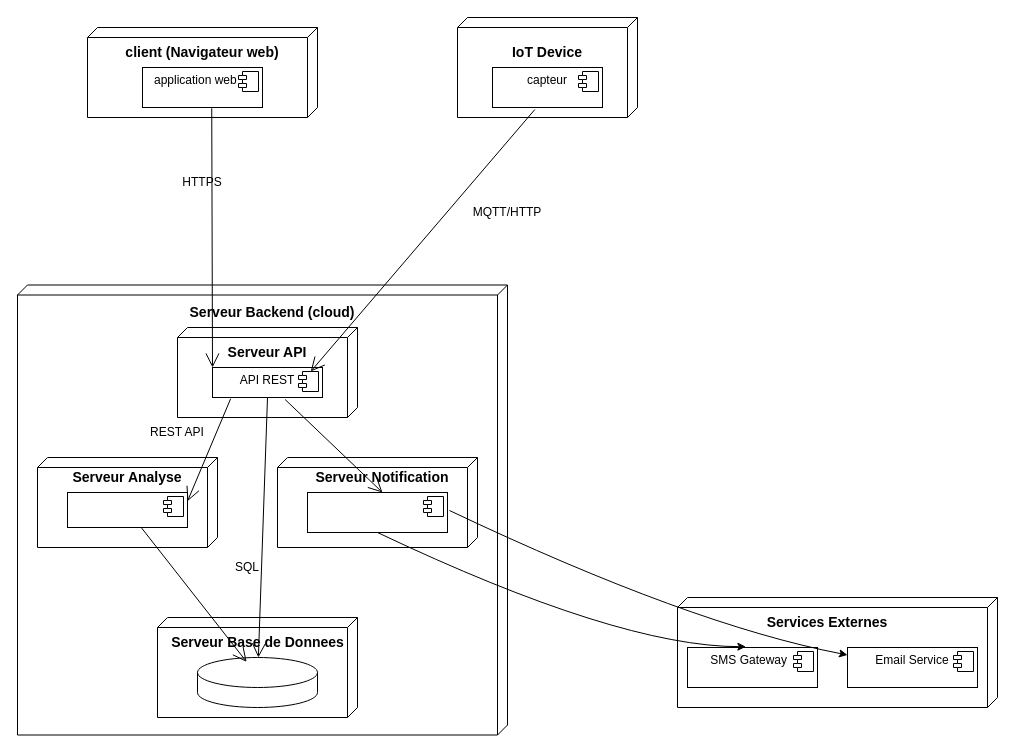
Image size: 1015x753. Some labels were removed from this diagram. The shapes that lost their labels are listed below. From the top down, each one's box as (x1, y1, x2, y2) in pixels, then its label:
(66, 492, 188, 528): Service analyse
(306, 492, 448, 532): Service Notification
(196, 656, 318, 708): PostgreSQL
